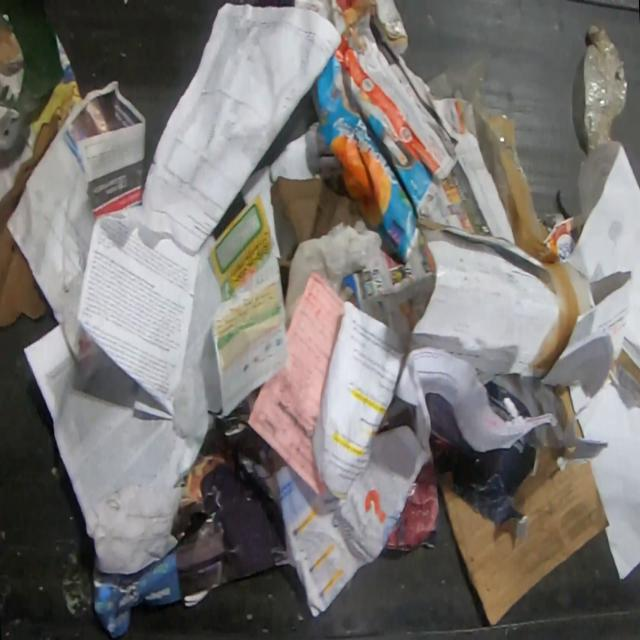cardboard: (438, 444, 611, 626), (0, 108, 60, 331), (270, 175, 362, 247), (329, 0, 410, 57), (545, 385, 584, 440)
rigid_plastic: (582, 21, 629, 158)
soft_plastic: (424, 56, 580, 375), (284, 220, 393, 332)
